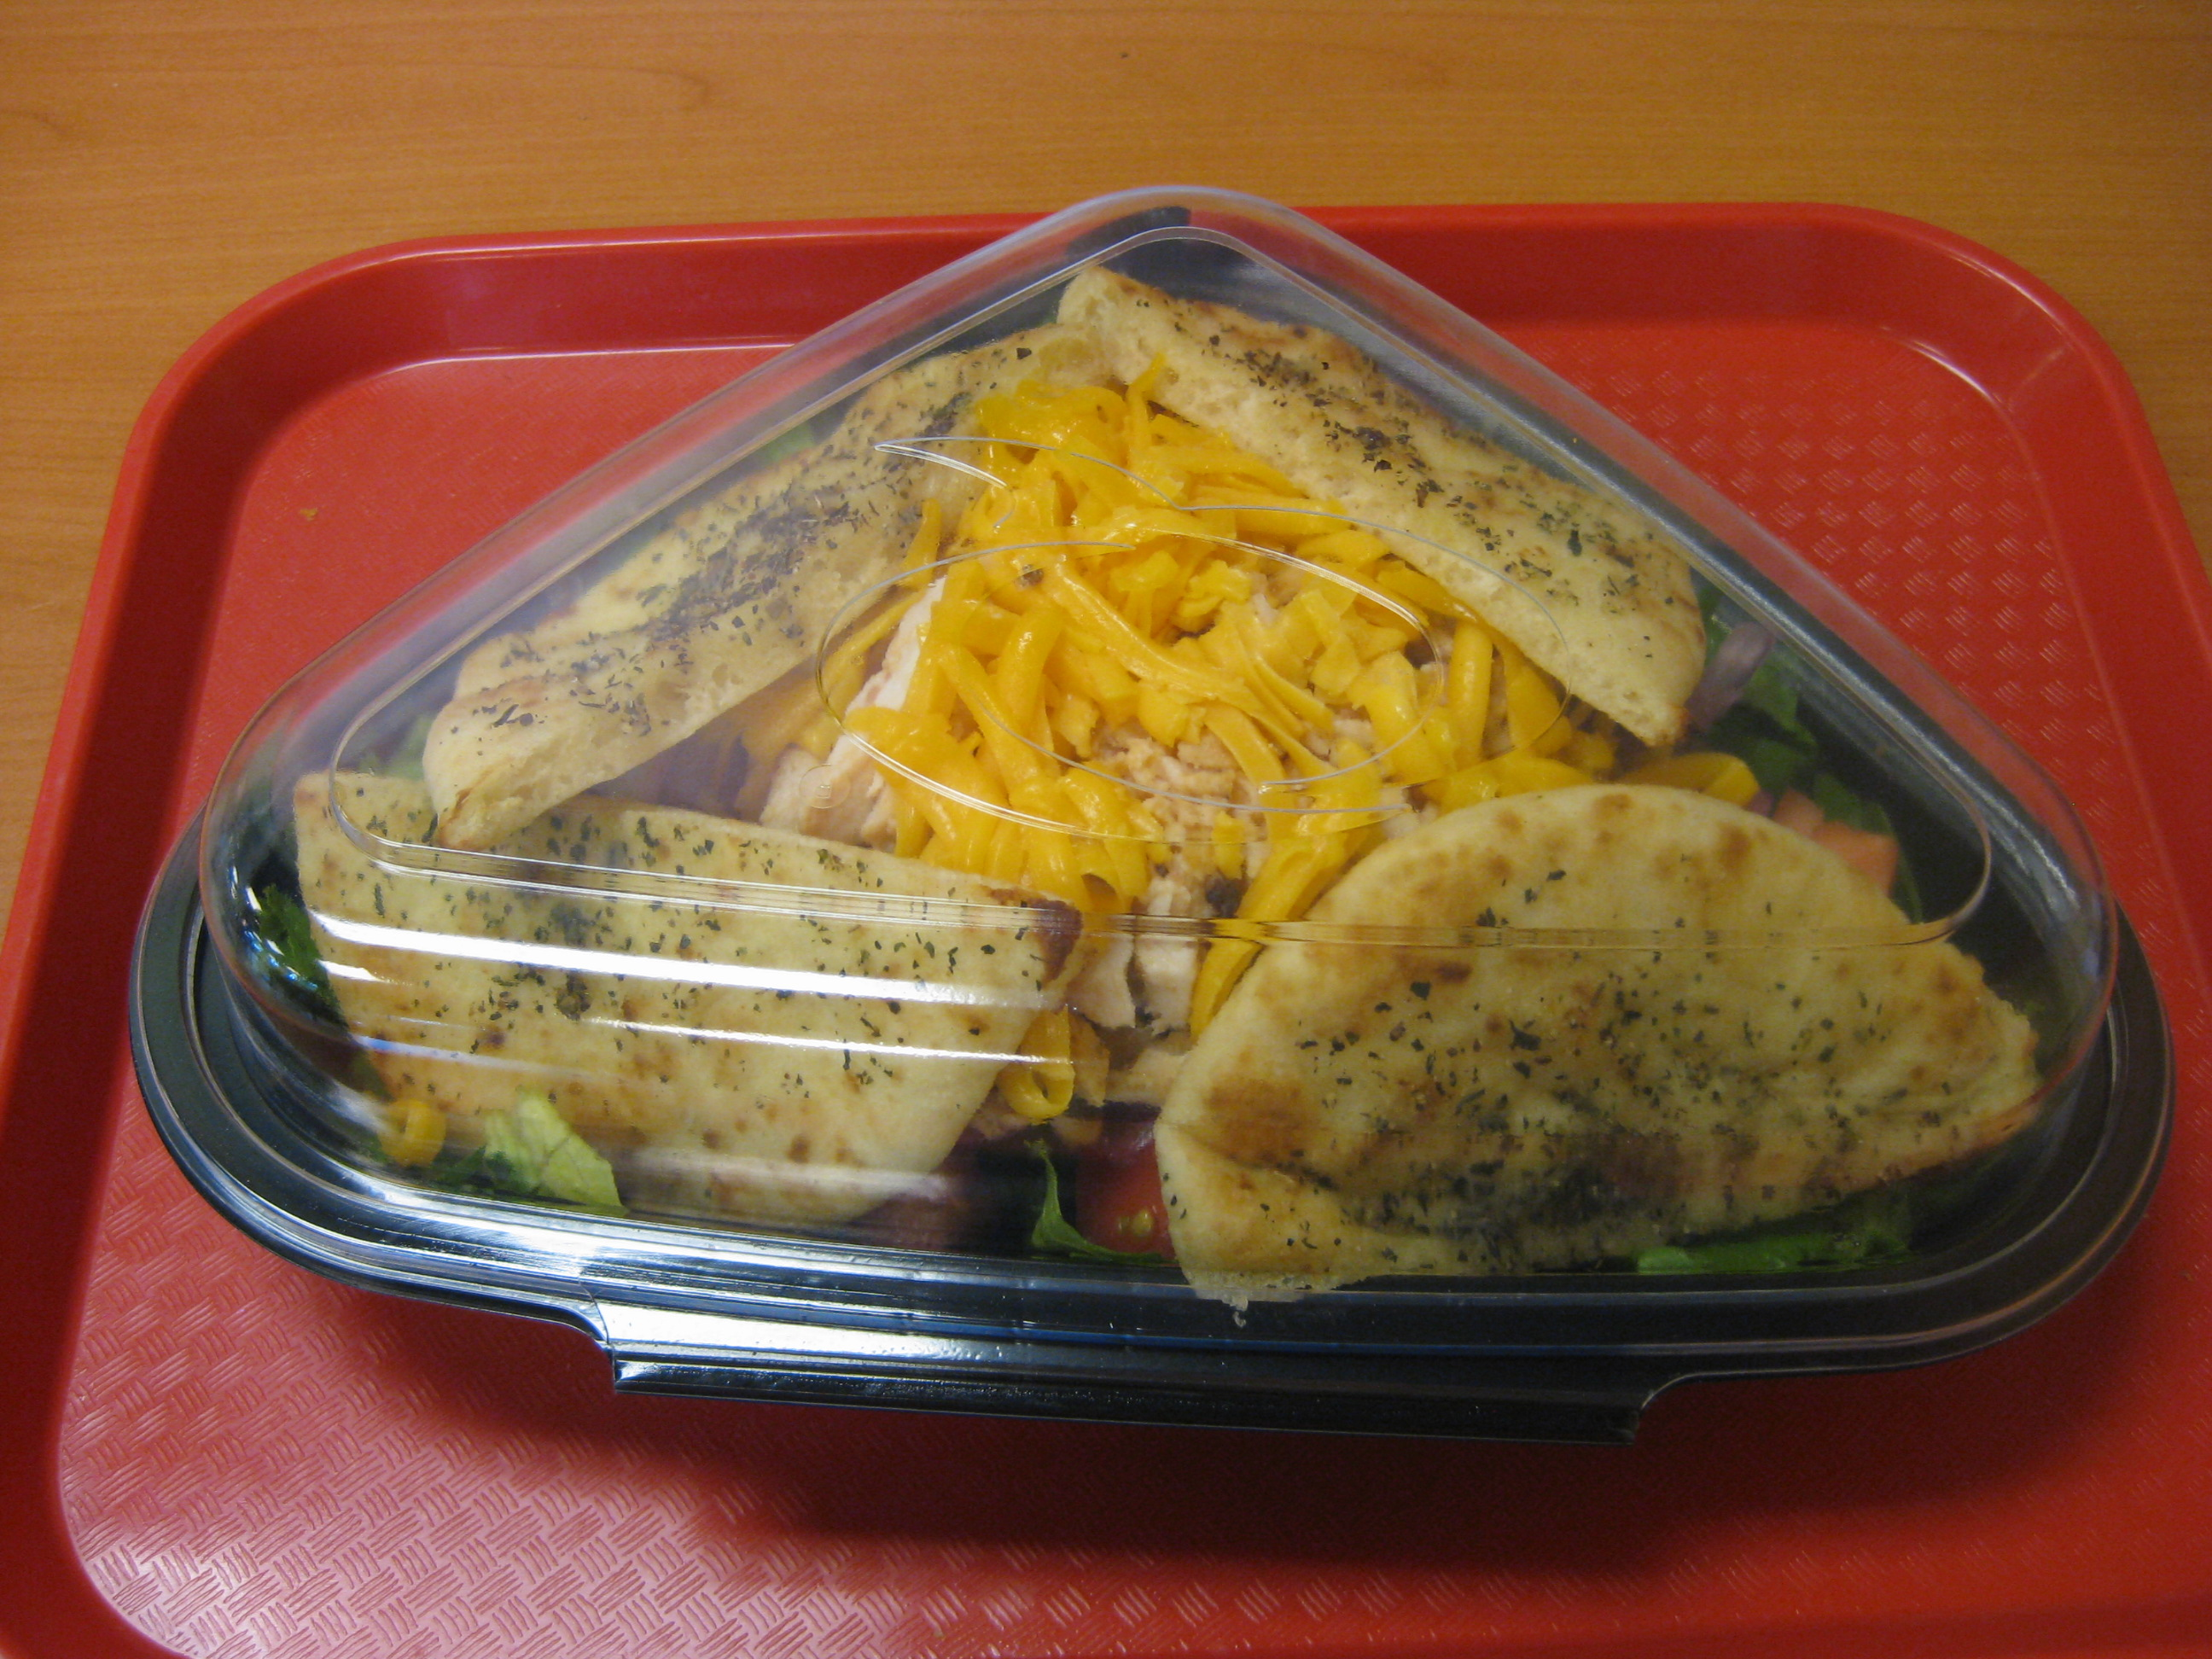salad: (271, 248, 2009, 1341)
